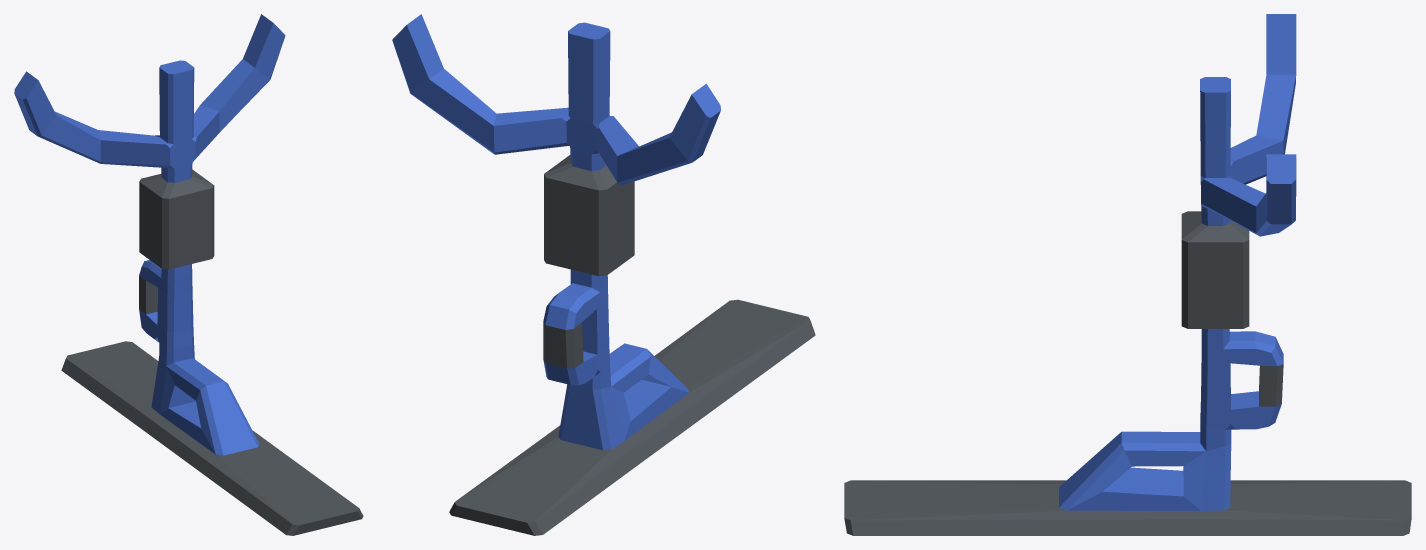
File: Dropship_05_Front_Lander_Blue.fbx
3 renders of one model, left to right at view 1: azimuth 30°, elevation 25°; view 2: azimuth 150°, elevation 25°; view 3: azimuth 270°, elevation 25°, orthographic. The views are drawn at different scales.
Parts seen in each view (by area): view 1: Dropship_05_Front_Lander_Blue; view 2: Dropship_05_Front_Lander_Blue; view 3: Dropship_05_Front_Lander_Blue.
Boxes of the visible parts, x1=… form: Dropship_05_Front_Lander_Blue: x1=14, y1=14, x2=363, y2=535; Dropship_05_Front_Lander_Blue: x1=392, y1=14, x2=815, y2=535; Dropship_05_Front_Lander_Blue: x1=844, y1=14, x2=1411, y2=535.
Size of the model in its own units: 183 by 234 by 281.
1 material, 1 textured.
